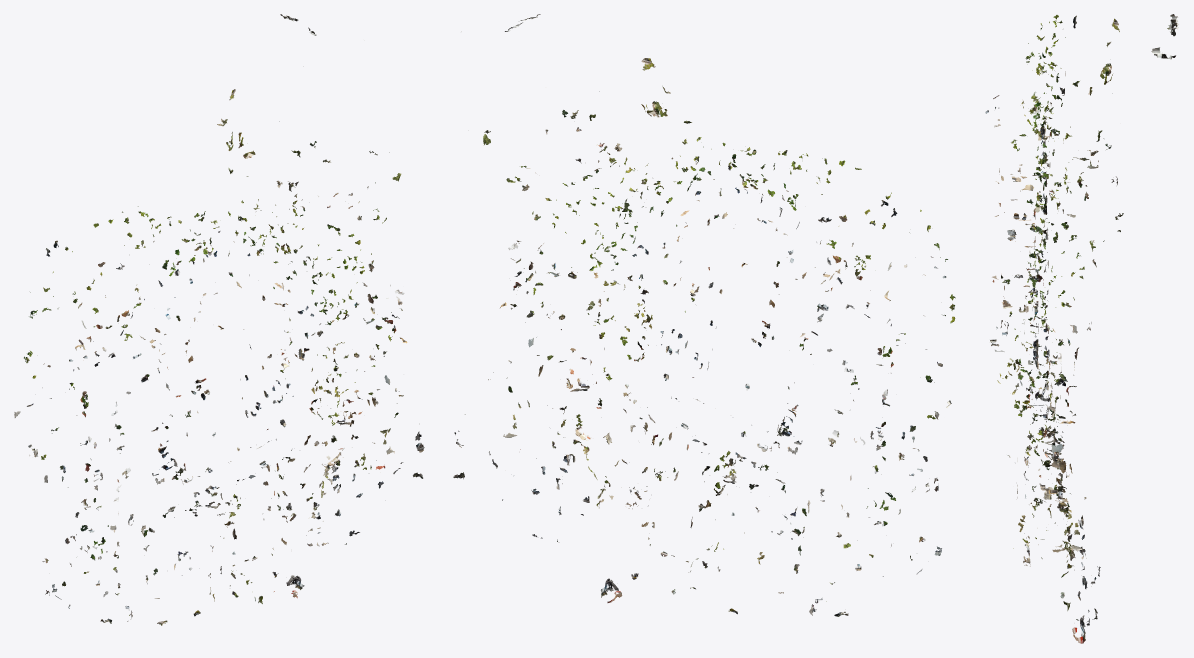
The model's file is tile_4.glb.
The picture shows the model from 3 angles, left to right: view 1: azimuth 30°, elevation 25°; view 2: azimuth 150°, elevation 25°; view 3: azimuth 270°, elevation 25°; orthographic projection. The views are drawn at different scales.
Size of the model in its own units: 198 by 242 by 66.23.
6 materials, 6 textured.
